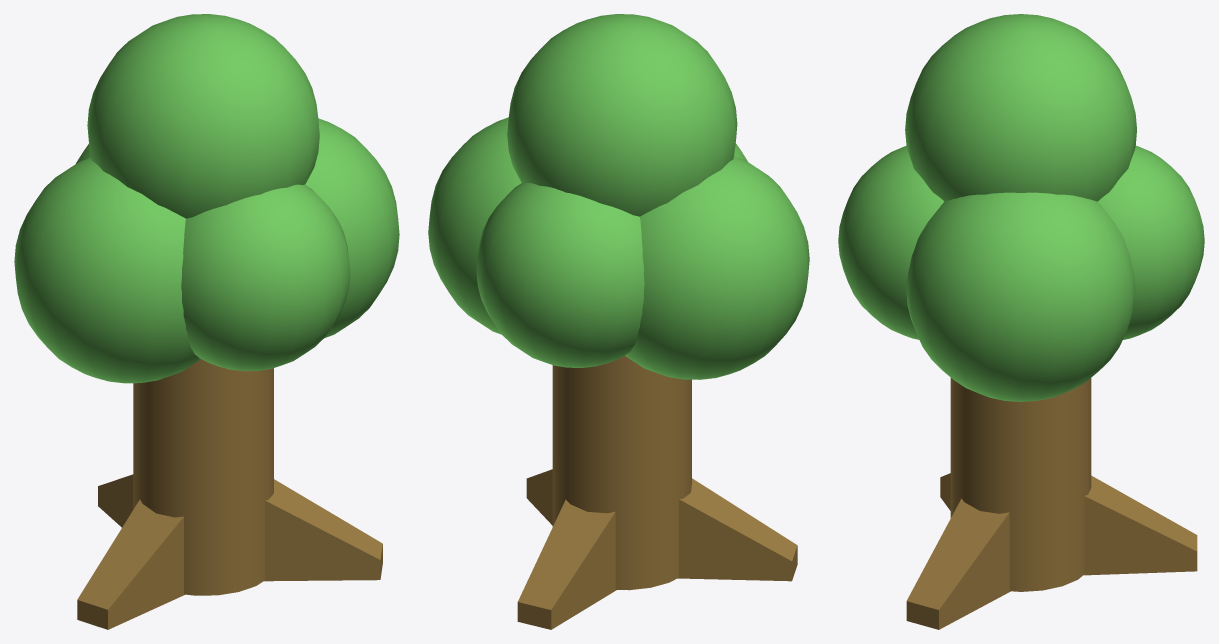
The model's file is VR TREE.fbx.
3 views of the same model, side by side, from view 1: azimuth 30°, elevation 25°; view 2: azimuth 150°, elevation 25°; view 3: azimuth 270°, elevation 25° (orthographic).
Visible parts, largest first — view 1: pSphere6; view 2: pSphere6; view 3: pSphere6.
Boxes of the visible parts, x1=… form: pSphere6: x1=14, y1=14, x2=399, y2=629; pSphere6: x1=428, y1=14, x2=809, y2=629; pSphere6: x1=838, y1=14, x2=1204, y2=629.
Size of the model in its own units: 0.0579 by 0.0844 by 0.0521.
